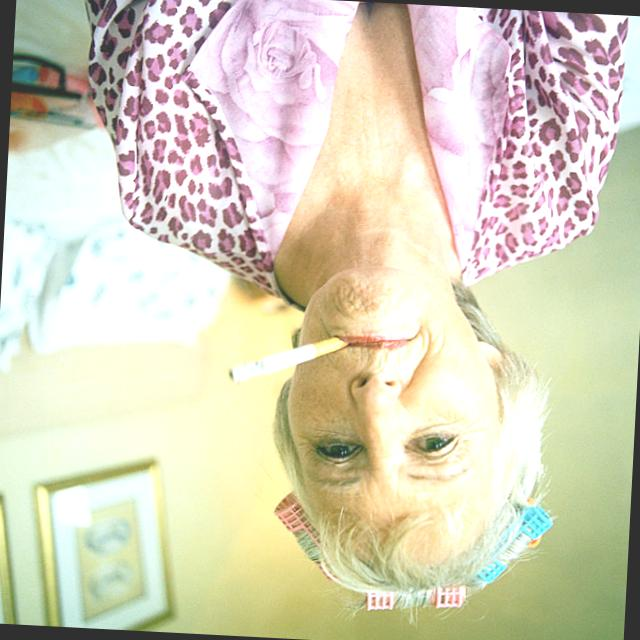cigarette: (227, 330, 343, 390)
